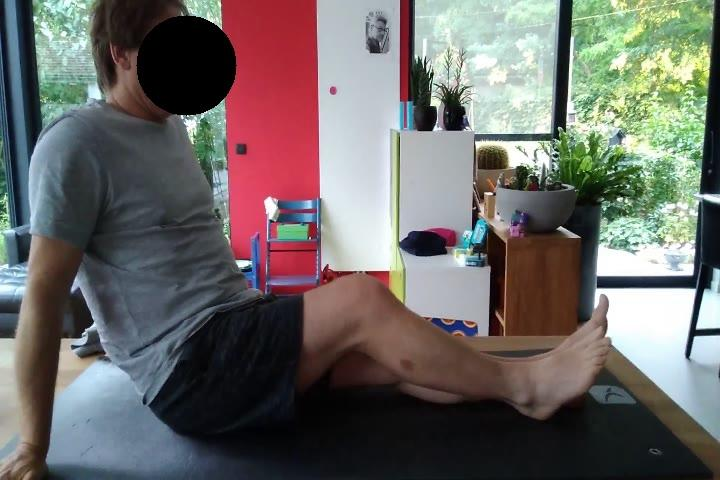lower_body: (151, 268, 614, 440)
